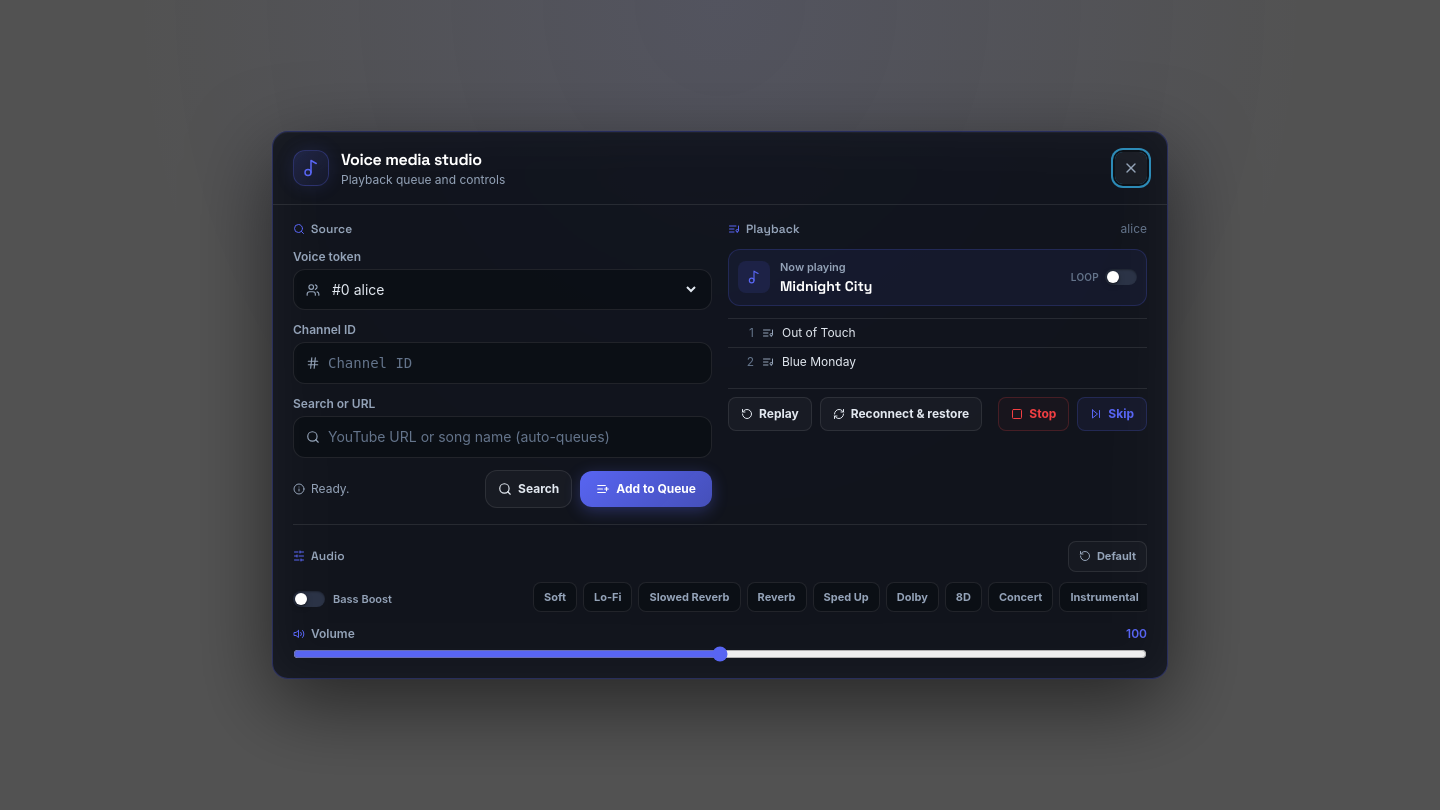
Test: VoiceMediaModal › requires a channel before playing
The image size is (1440, 810).
Expected: the text "Midnight City" is shown, [780,276,872,294]
Type "first song" into the field with placeholder "YouTube URL or song name (auto-queues)" at (514, 437), box [328,417,699,457]
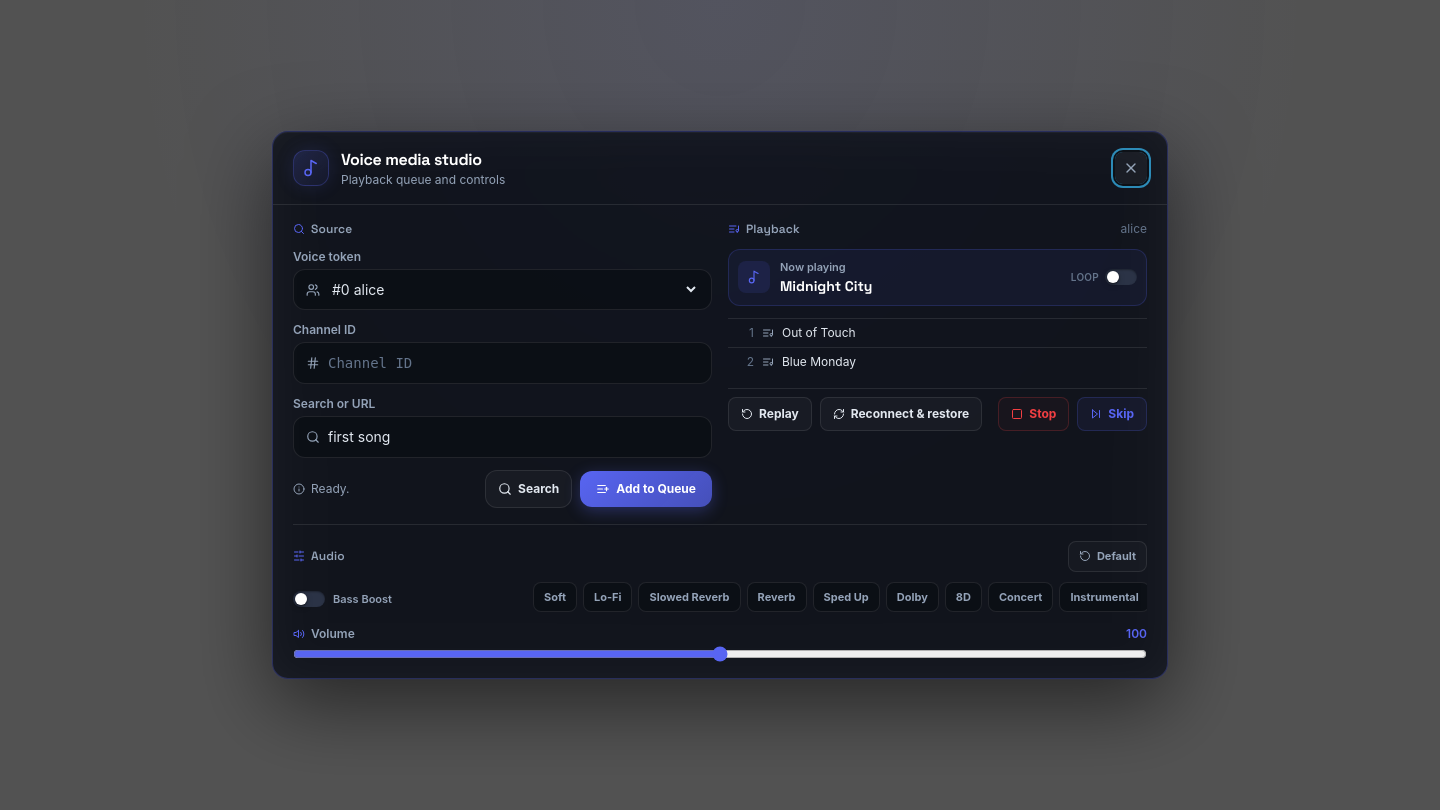
Click the button "Add to Queue" at (646, 489), box [580,471,712,507]
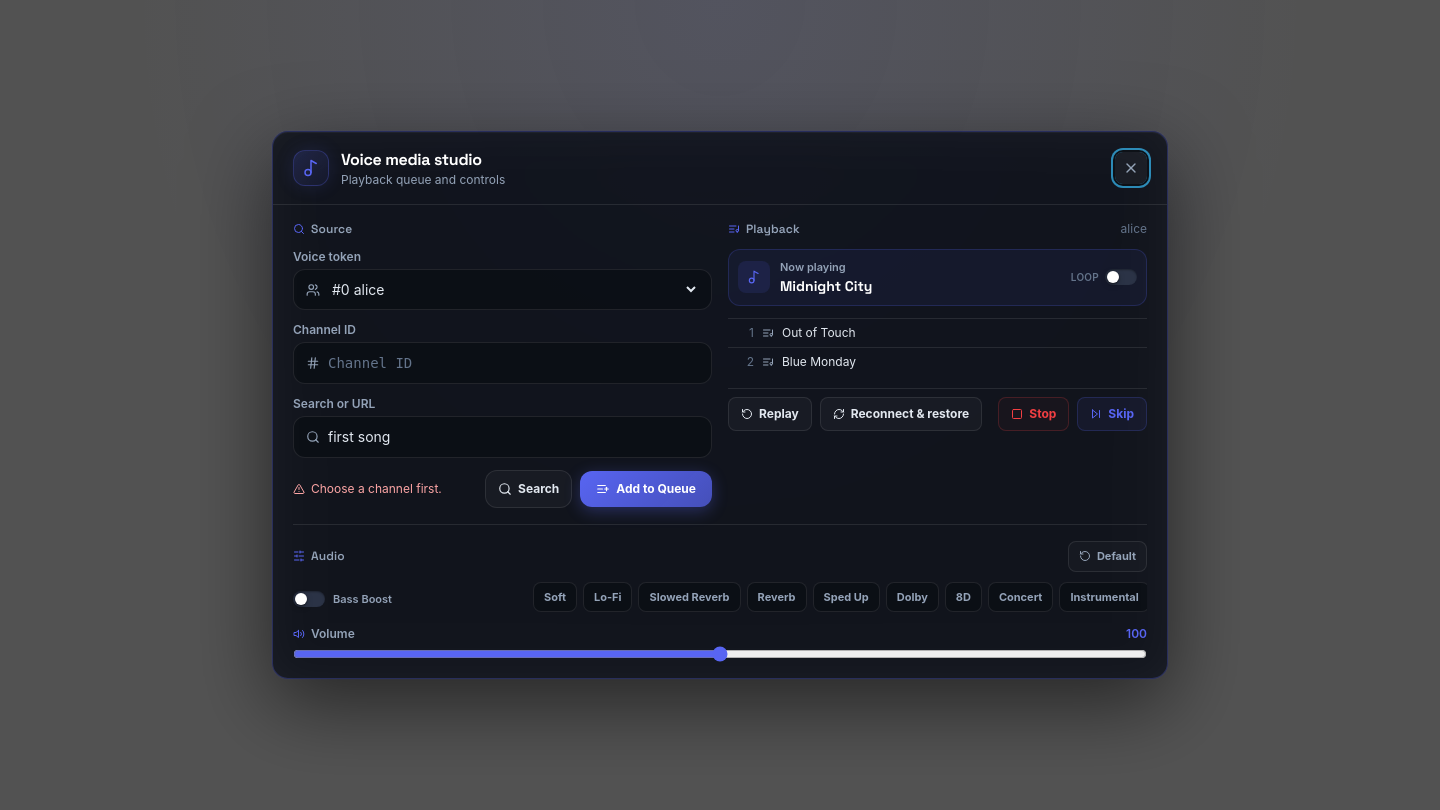
Result: the text "Choose a channel first." is shown at [311,481,442,497]
